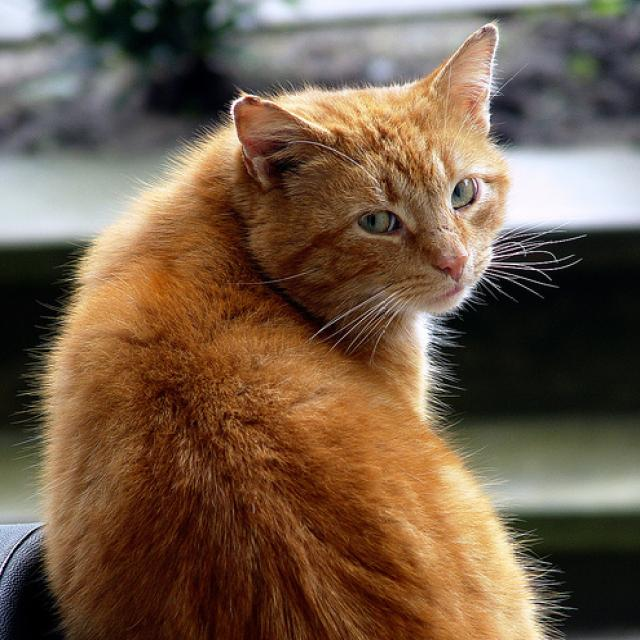cat: (45, 23, 550, 640)
